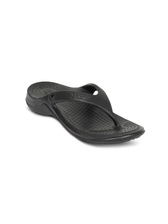shoes: (21, 72, 149, 145)
